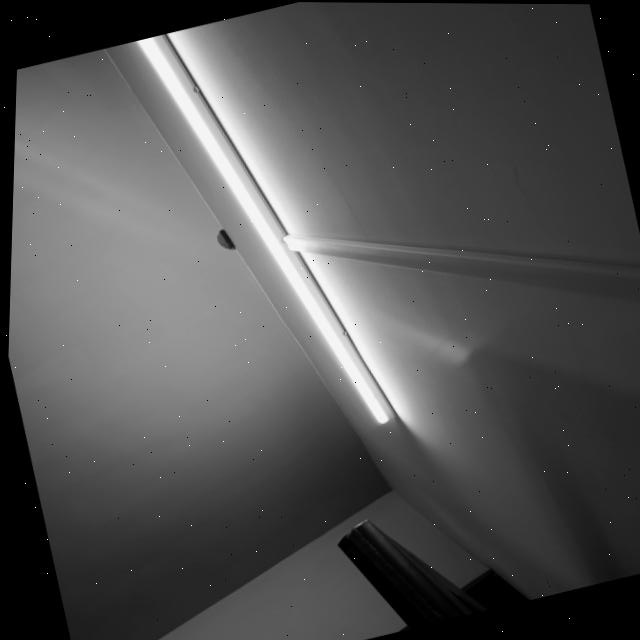fluorescent tube: (82, 0, 424, 476)
